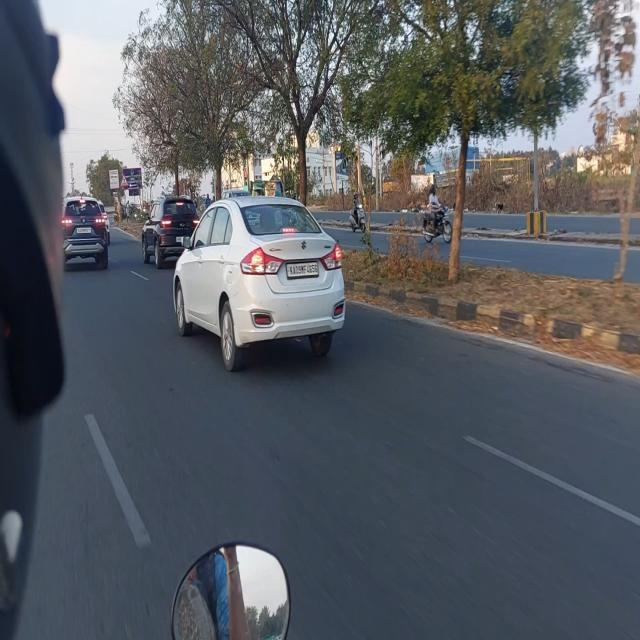bien_cam: (120, 173, 128, 188)
